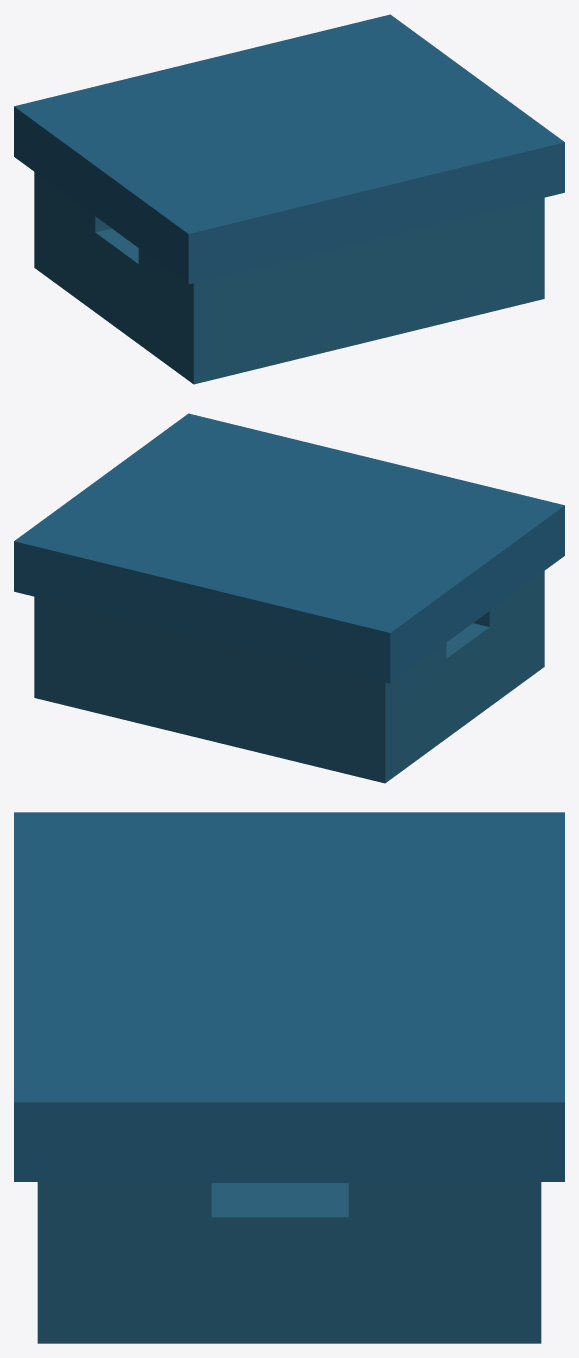
The model's file is Caixa1.fbx.
3 views of the same model, one above another, from view 1: azimuth 30°, elevation 25°; view 2: azimuth 150°, elevation 25°; view 3: azimuth 270°, elevation 25° (orthographic). The views are drawn at different scales.
Visible parts, largest first — view 1: Cube.001, Cube; view 2: Cube.001, Cube; view 3: Cube.001, Cube.
Boxes of the visible parts, x1,y1,x2,y2 form: Cube.001: [14, 14, 564, 284]; Cube: [34, 172, 544, 384]; Cube.001: [14, 413, 564, 683]; Cube: [34, 571, 544, 783]; Cube.001: [14, 812, 564, 1181]; Cube: [37, 1182, 541, 1343].
Bounding box in the file's own units: 378 × 153 × 304.
